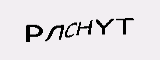Б: (56, 10, 78, 45), (111, 11, 127, 42)
И: (19, 12, 52, 43)
Н: (79, 12, 109, 42)
Ч: (126, 13, 139, 37)
